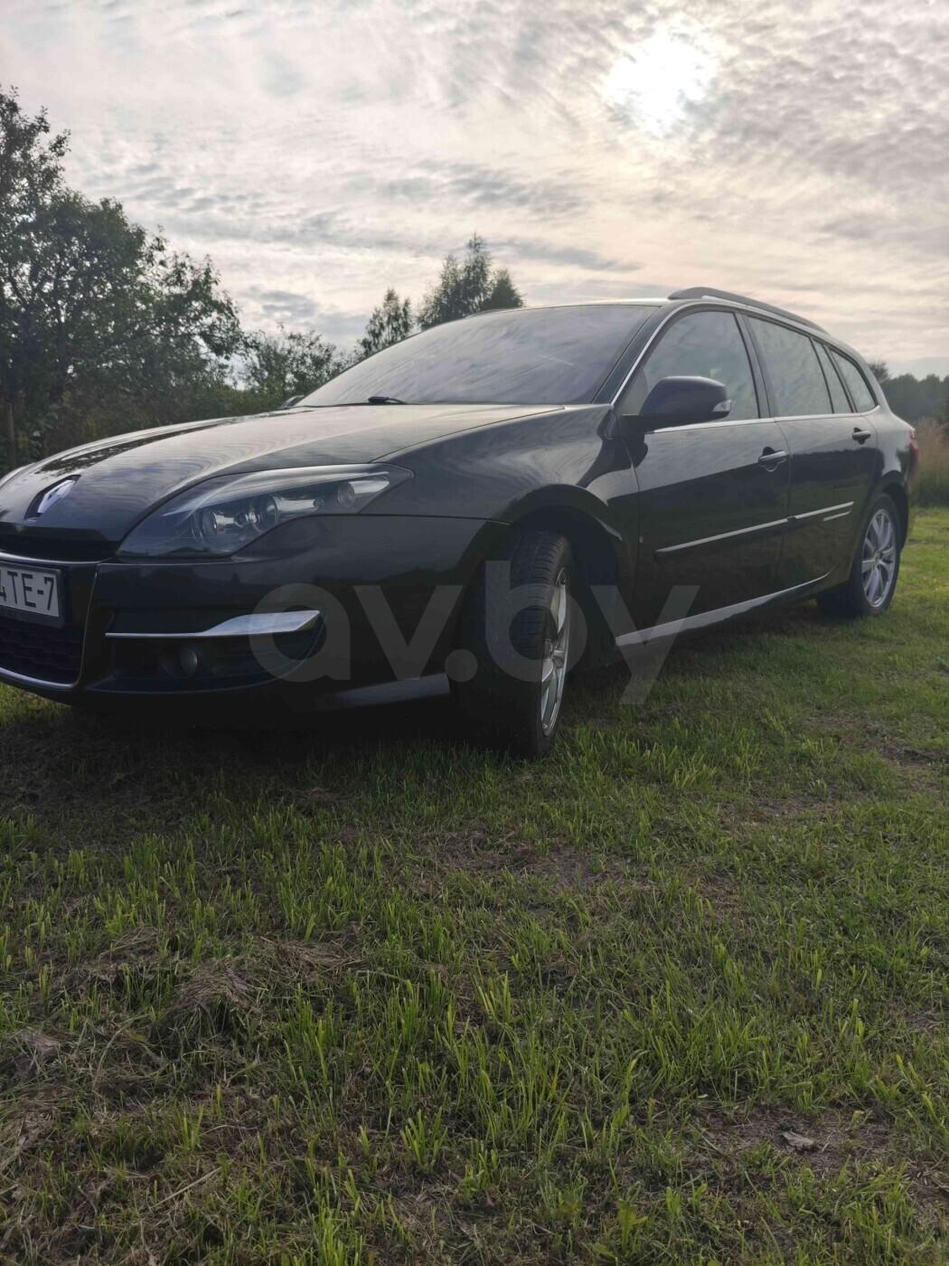Laguna_2010-2015: (0, 277, 924, 754)
